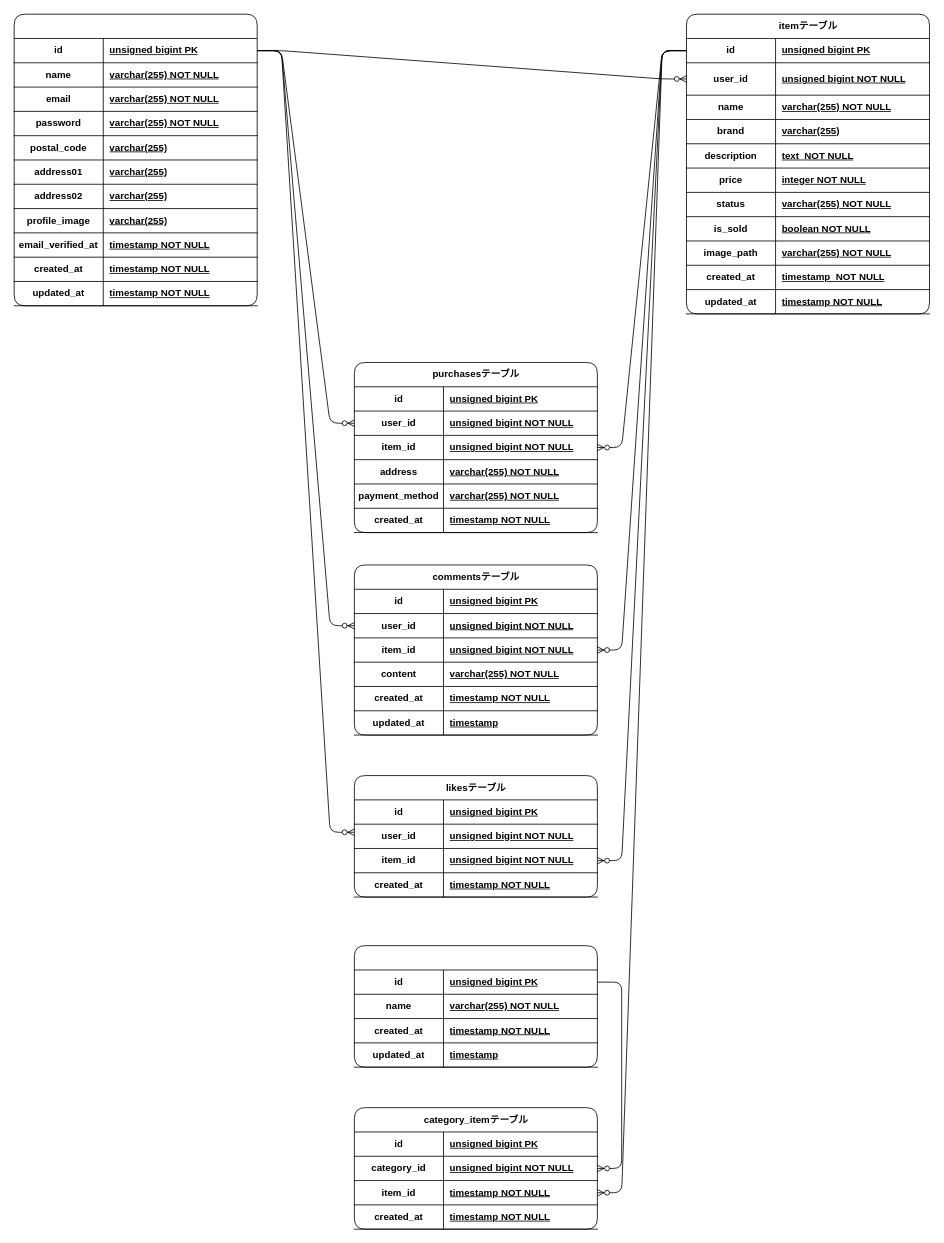
This 944x1243 diagram has some shape labels left out. The box of each missing label's shape, as (x1, y1, x2, y2) in pixels:
categoriesテーブル: (354, 945, 597, 1067)
Usersテーブル: (13, 13, 257, 306)
